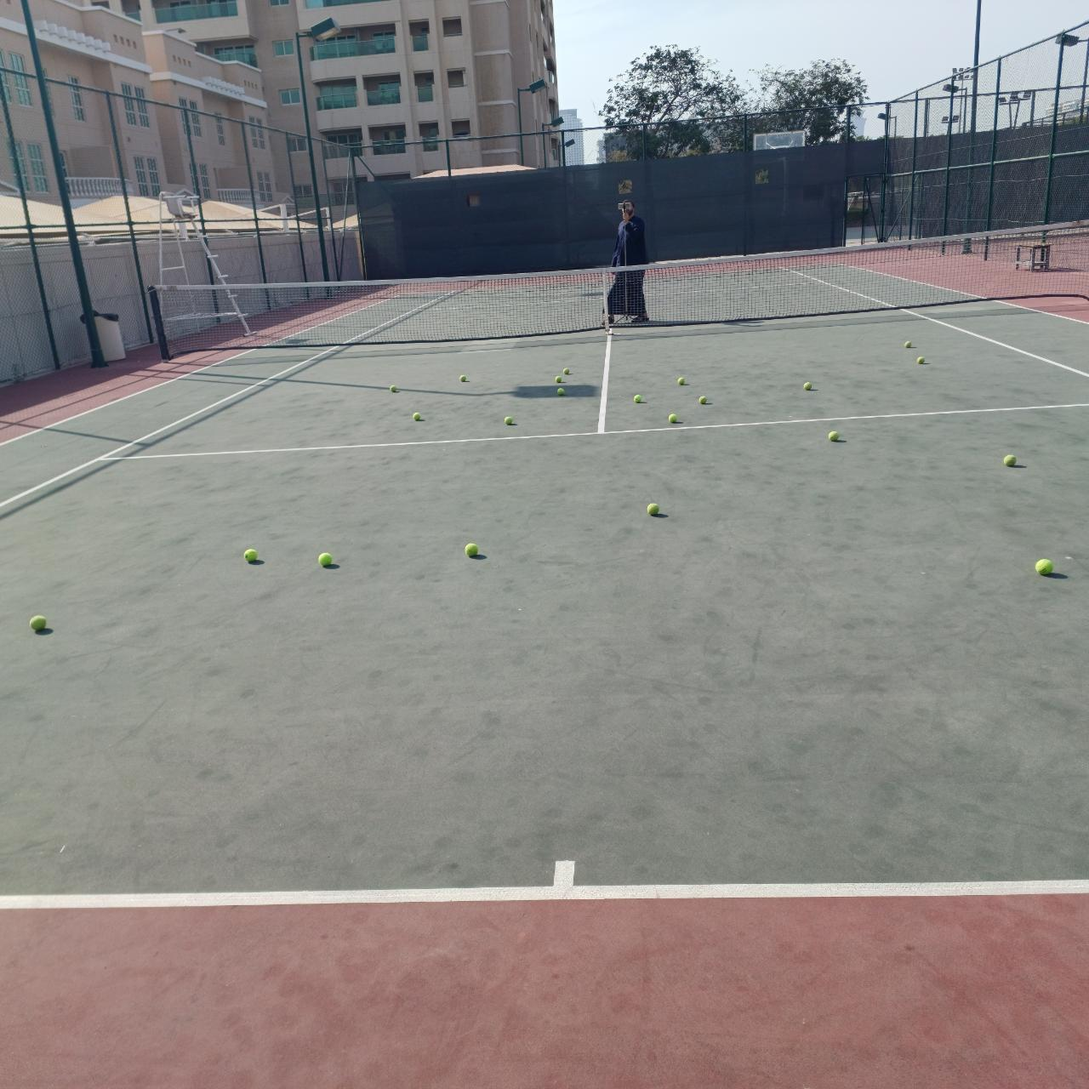tennis-ball: (1034, 556, 1052, 575), (28, 613, 47, 631), (316, 550, 333, 566), (242, 546, 258, 561), (463, 540, 477, 556), (646, 502, 659, 516), (1003, 454, 1016, 466), (828, 431, 839, 441), (668, 413, 678, 424), (698, 396, 707, 405), (504, 416, 513, 425), (634, 394, 642, 404), (804, 382, 812, 391), (413, 412, 421, 421), (917, 356, 925, 364), (389, 385, 397, 393), (904, 341, 912, 348), (678, 377, 685, 385), (557, 387, 564, 395), (555, 375, 562, 383), (563, 367, 570, 375), (459, 374, 466, 382)
